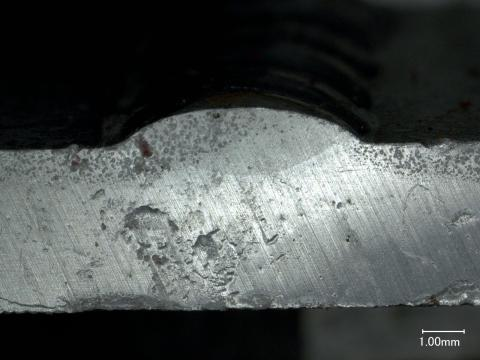test: (113, 109, 361, 146)
